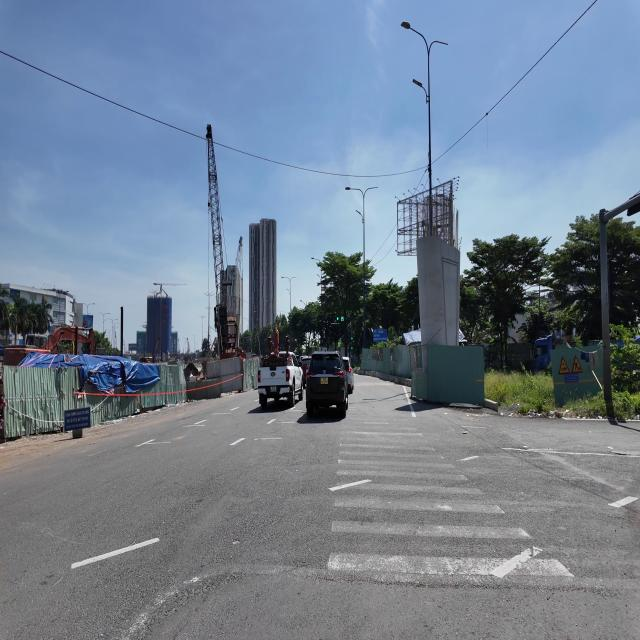car: (306, 352, 348, 417), (258, 352, 303, 408), (343, 357, 354, 394), (299, 356, 310, 387)
